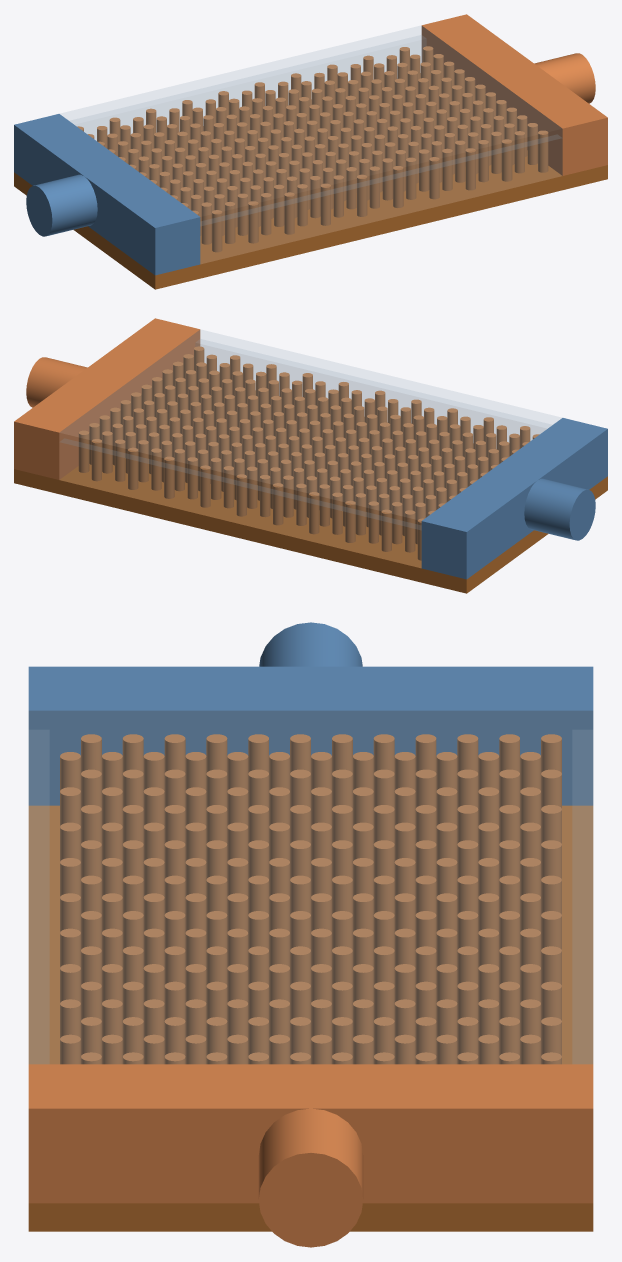
Rendered from pin-fin-cooler.glb.
3 views of the same model, one above another, from view 1: azimuth 30°, elevation 25°; view 2: azimuth 150°, elevation 25°; view 3: azimuth 270°, elevation 25° (orthographic). The views are drawn at different scales.
Visible parts, largest first — view 1: cover, pin-array, inlet-manifold, base-plate, outlet-manifold; view 2: cover, pin-array, inlet-manifold, base-plate, outlet-manifold; view 3: cover, pin-array, outlet-manifold, inlet-manifold, base-plate.
Boxes of the visible parts, box(x1,y1,x2,y2) form: cover: box(61, 26, 562, 263); pin-array: box(77, 46, 548, 252); inlet-manifold: box(14, 114, 200, 275); base-plate: box(14, 73, 607, 289); outlet-manifold: box(421, 14, 607, 175); cover: box(59, 330, 560, 567); pin-array: box(78, 346, 539, 560); inlet-manifold: box(421, 418, 607, 579); base-plate: box(14, 391, 607, 593); outlet-manifold: box(14, 318, 200, 479); cover: box(29, 711, 592, 1063); pin-array: box(60, 734, 561, 1064); outlet-manifold: box(28, 1064, 593, 1247); inlet-manifold: box(28, 622, 593, 805); base-plate: box(28, 805, 593, 1231).
Size of the model in its own units: 0.12 by 0.013 by 0.054.
